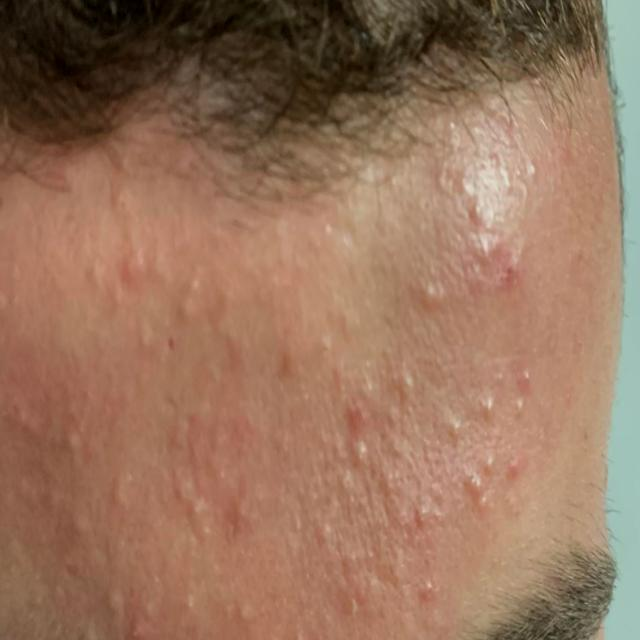fungal: (14, 235, 262, 627), (301, 358, 539, 608), (384, 132, 550, 338)
